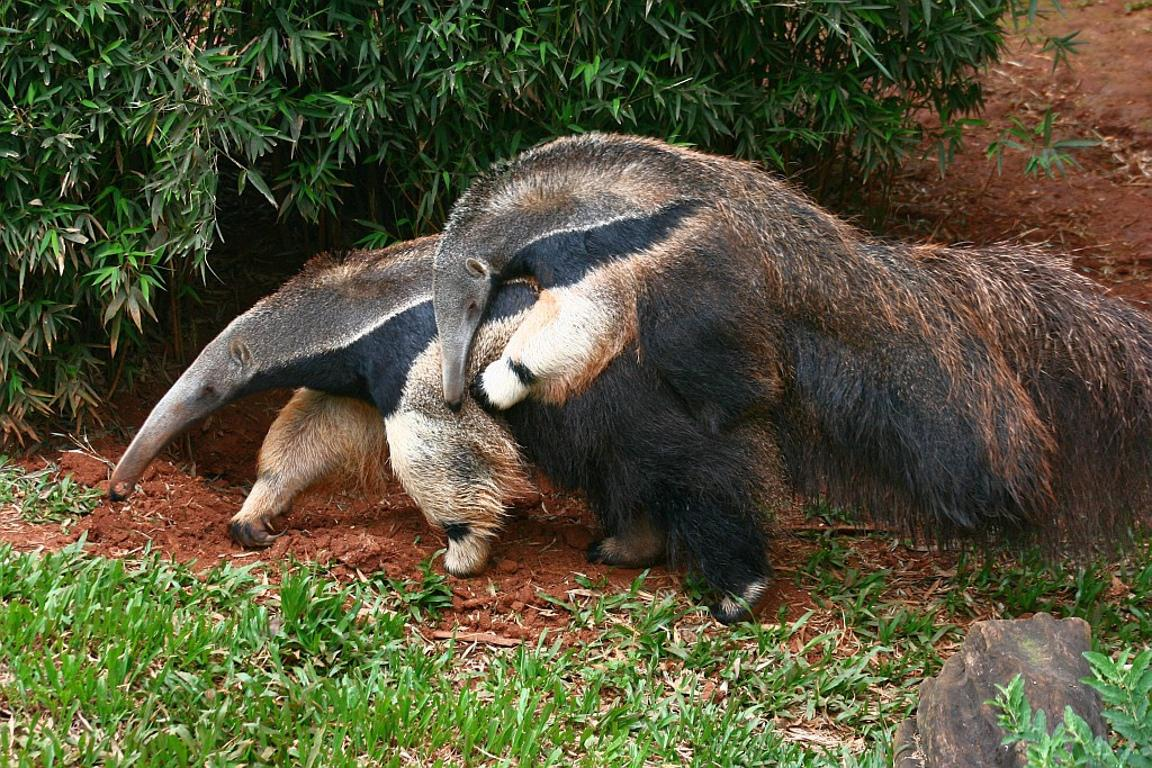TamanduaBandeira: (102, 232, 1147, 575), (424, 130, 1061, 575)
